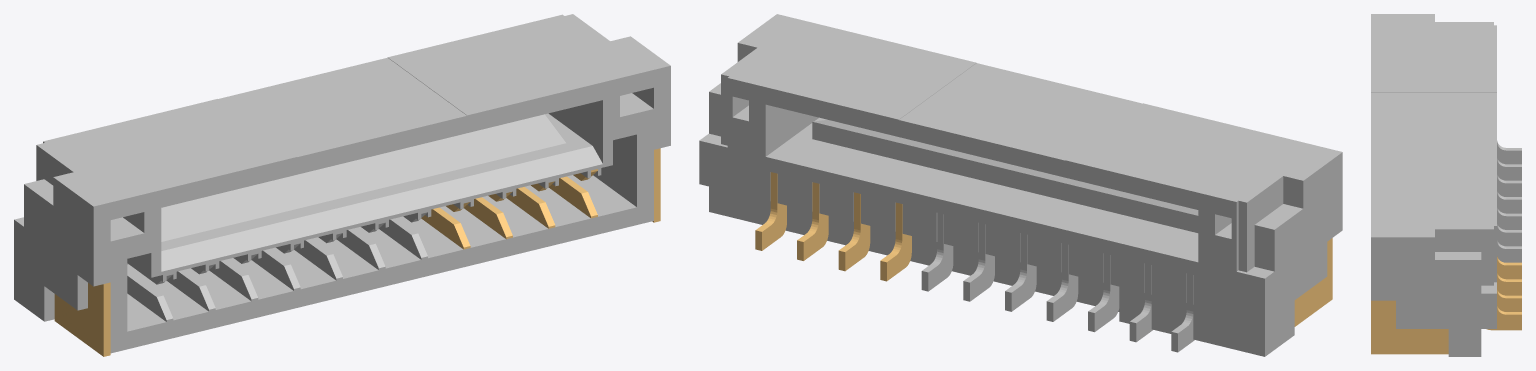
Rendered from SM11B-GHS-TB.obj.
3 views of the same model, side by side, from view 1: azimuth 30°, elevation 25°; view 2: azimuth 150°, elevation 25°; view 3: azimuth 270°, elevation 25° (orthographic). The views are drawn at different scales.
Parts seen in each view (by area): view 1: SM11B-GHS-TB; view 2: SM11B-GHS-TB; view 3: SM11B-GHS-TB.
Part boxes in pixels (left/top/right/bottom): SM11B-GHS-TB: left=14, top=14, right=670, bottom=356; SM11B-GHS-TB: left=699, top=14, right=1342, bottom=356; SM11B-GHS-TB: left=1371, top=14, right=1521, bottom=356.
Size of the model in its own units: 0.0141 by 0.00357 by 0.00402.
